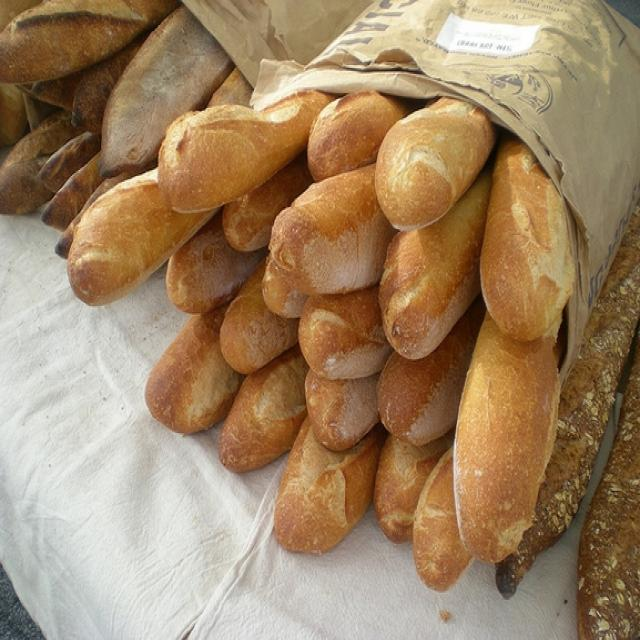面包点心: (4, 4, 634, 637)
